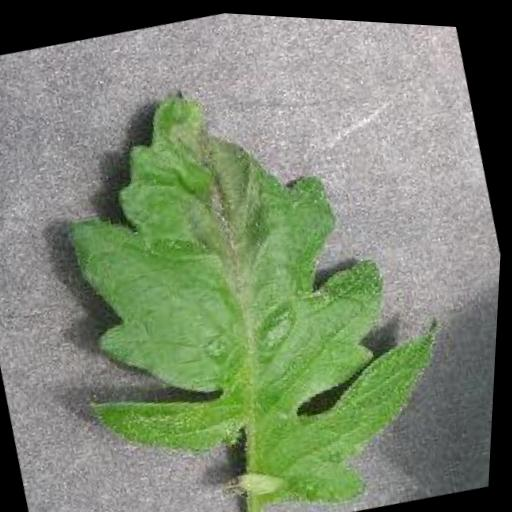Late Blight: (13, 26, 490, 512)
